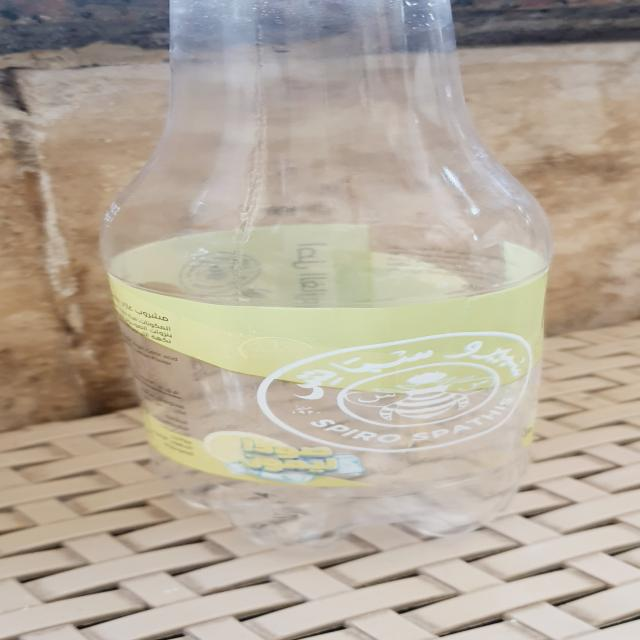plastic: (103, 0, 554, 556)
